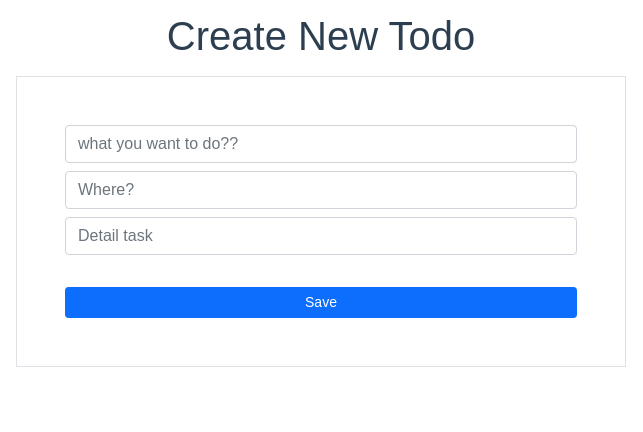
Test: NewTodo Page › show error message if status not 201
Type "mandi" into the field with placeholder "what you want to do??" at (321, 144), box [65, 125, 577, 163]
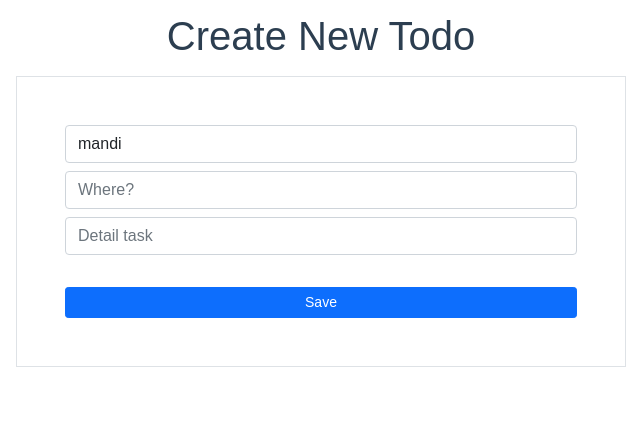
Type "Kamar Mandi" into the field with placeholder "Where?" at (321, 190), box [65, 171, 577, 209]
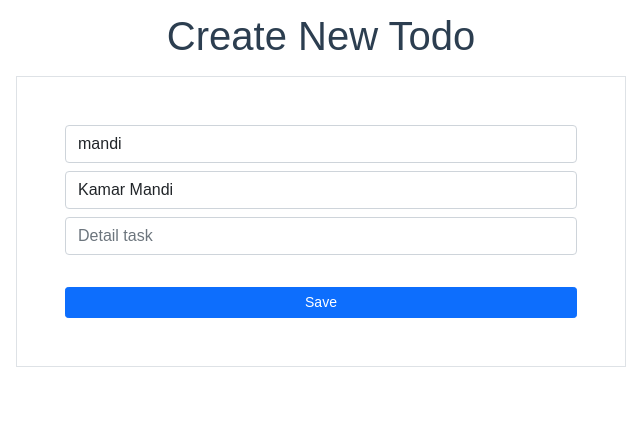
Type "bersihin badan biar wangi" into the field with placeholder "Detail task" at (321, 236), box [65, 217, 577, 255]
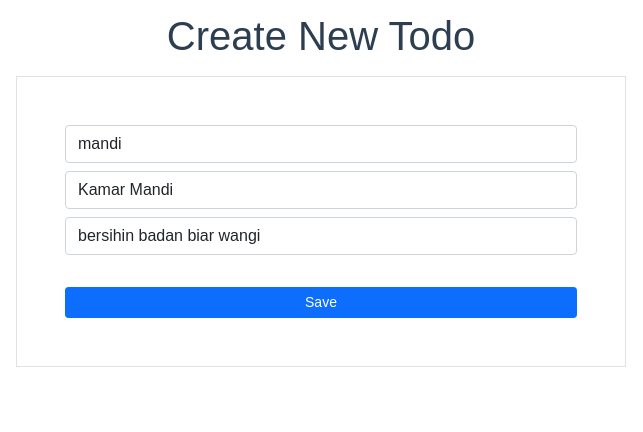
Click the button "Save" at (321, 302), box [65, 287, 577, 318]
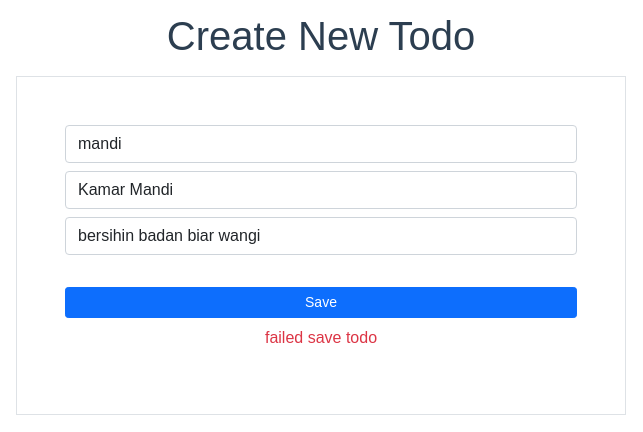
Expected: the text "failed save todo" is shown, [265, 329, 377, 346]
